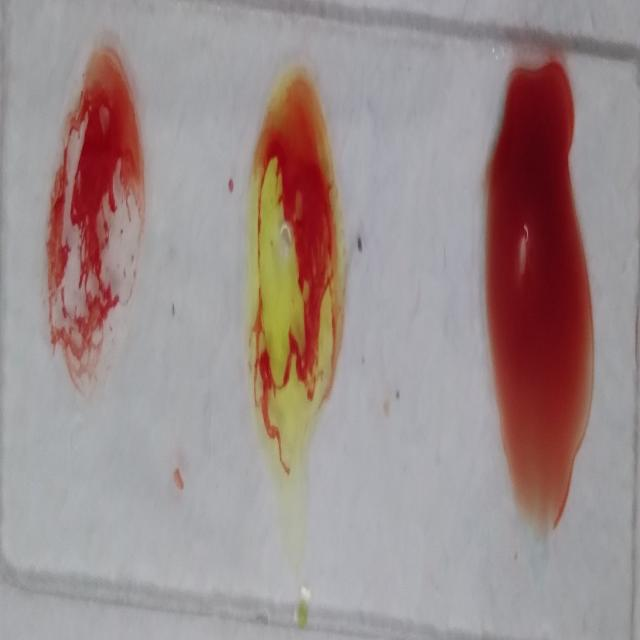B: (249, 73, 343, 495)
D: (46, 40, 144, 398)
